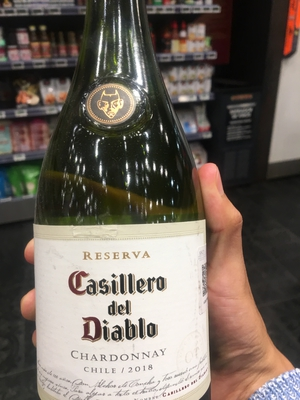casillero del diablo chardonnay: (27, 18, 234, 400)
